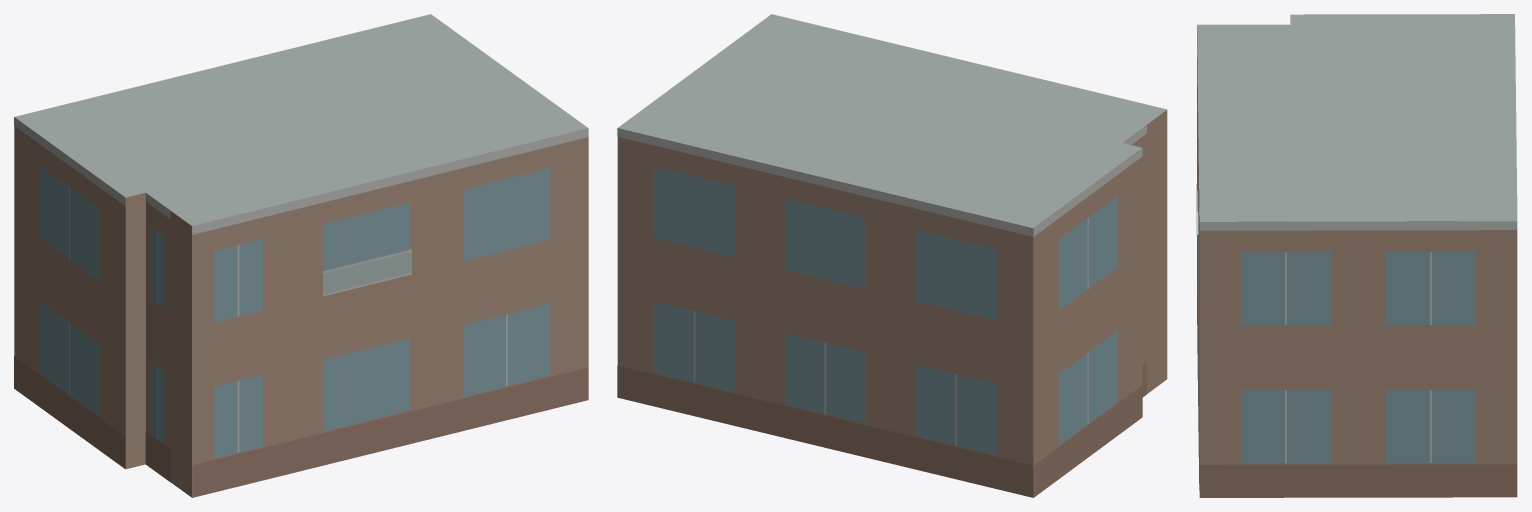
File: survey-upis-32677820.glb
3 renders of one model, left to right at view 1: azimuth 30°, elevation 25°; view 2: azimuth 150°, elevation 25°; view 3: azimuth 270°, elevation 25°, orthographic. The views are drawn at different scales.
Parts seen in each view (by area): view 1: survey-upis-32677820.tmp; view 2: survey-upis-32677820.tmp; view 3: survey-upis-32677820.tmp.
Part boxes in pixels (left/top/right/bottom): survey-upis-32677820.tmp: left=14, top=14, right=588, bottom=497; survey-upis-32677820.tmp: left=617, top=14, right=1167, bottom=497; survey-upis-32677820.tmp: left=1196, top=14, right=1517, bottom=497.
Size of the model in its own units: 12.28 by 7.6 by 8.02.
